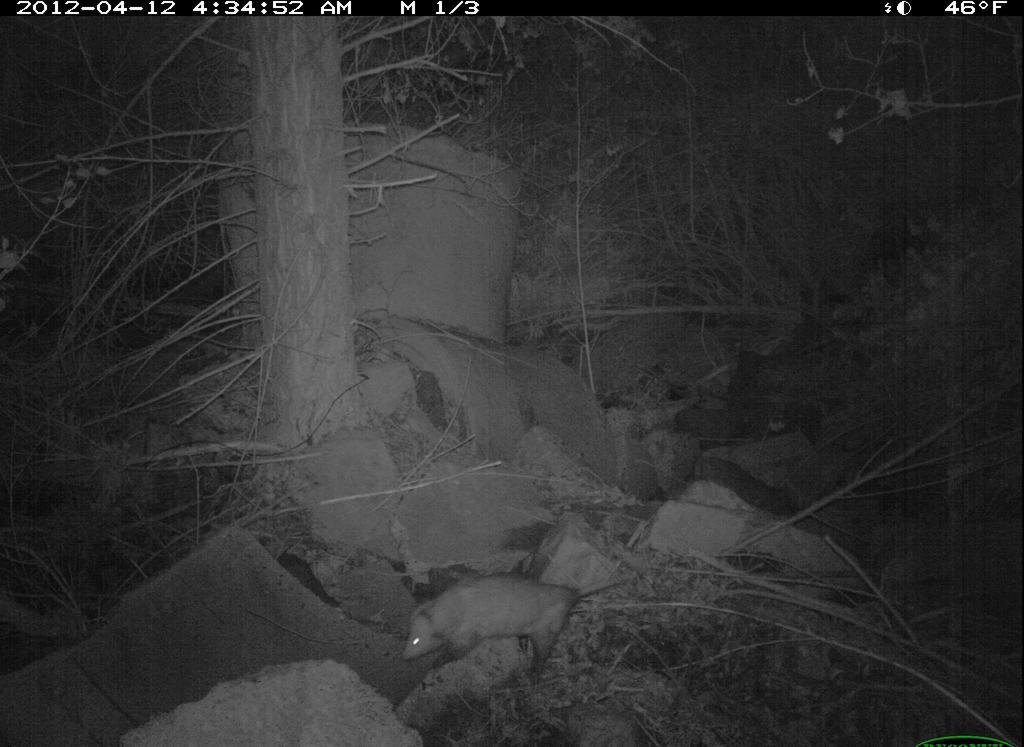opossum: (404, 559, 653, 688)
